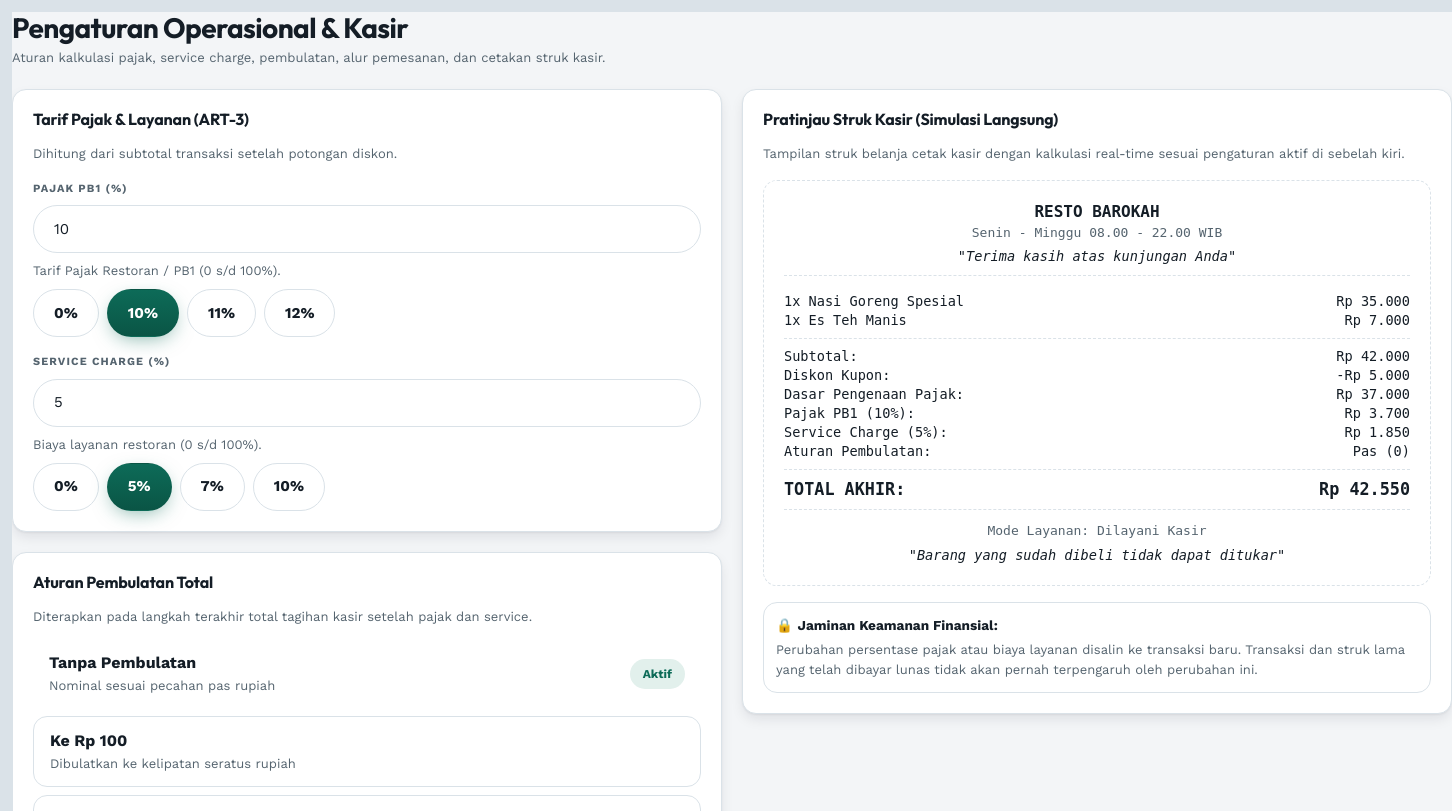
Test case: Operasional (Pengaturan Operasional & Kasir — T9-03 / PRD M2, M6 / ART-3) › memilih tombol cepat persentase PB1 memperbarui nilai input dan kalkulasi
Step 1. Click the button named "pilih tarif pb1 11 persen" → (222, 314), box [187,290,256,338]
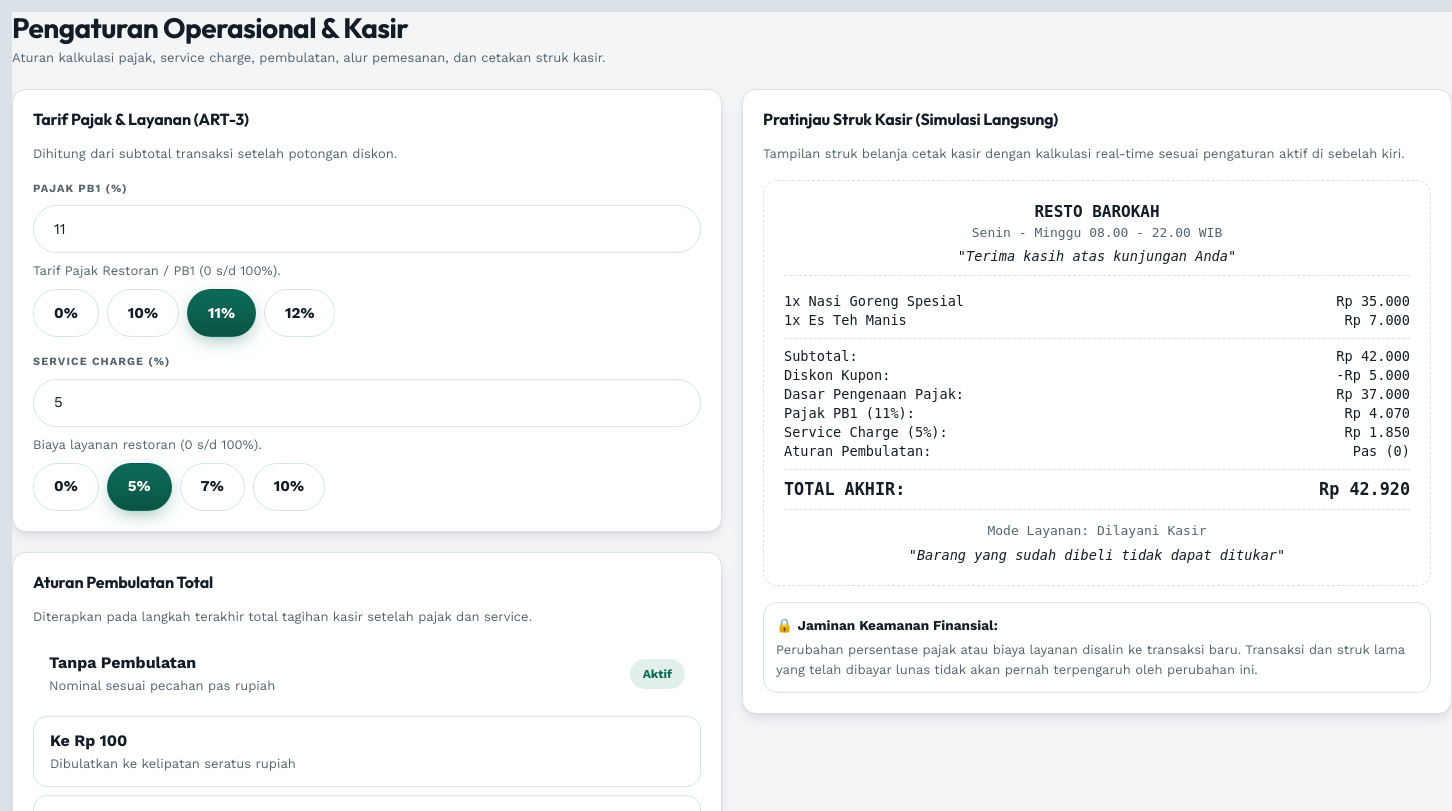
Expected: the number field labelled "Pajak PB1 (%)" holds "11", [33,205,701,253]
Expected: the text "Pajak PB1 (11%):" is shown, [784,404,915,423]
